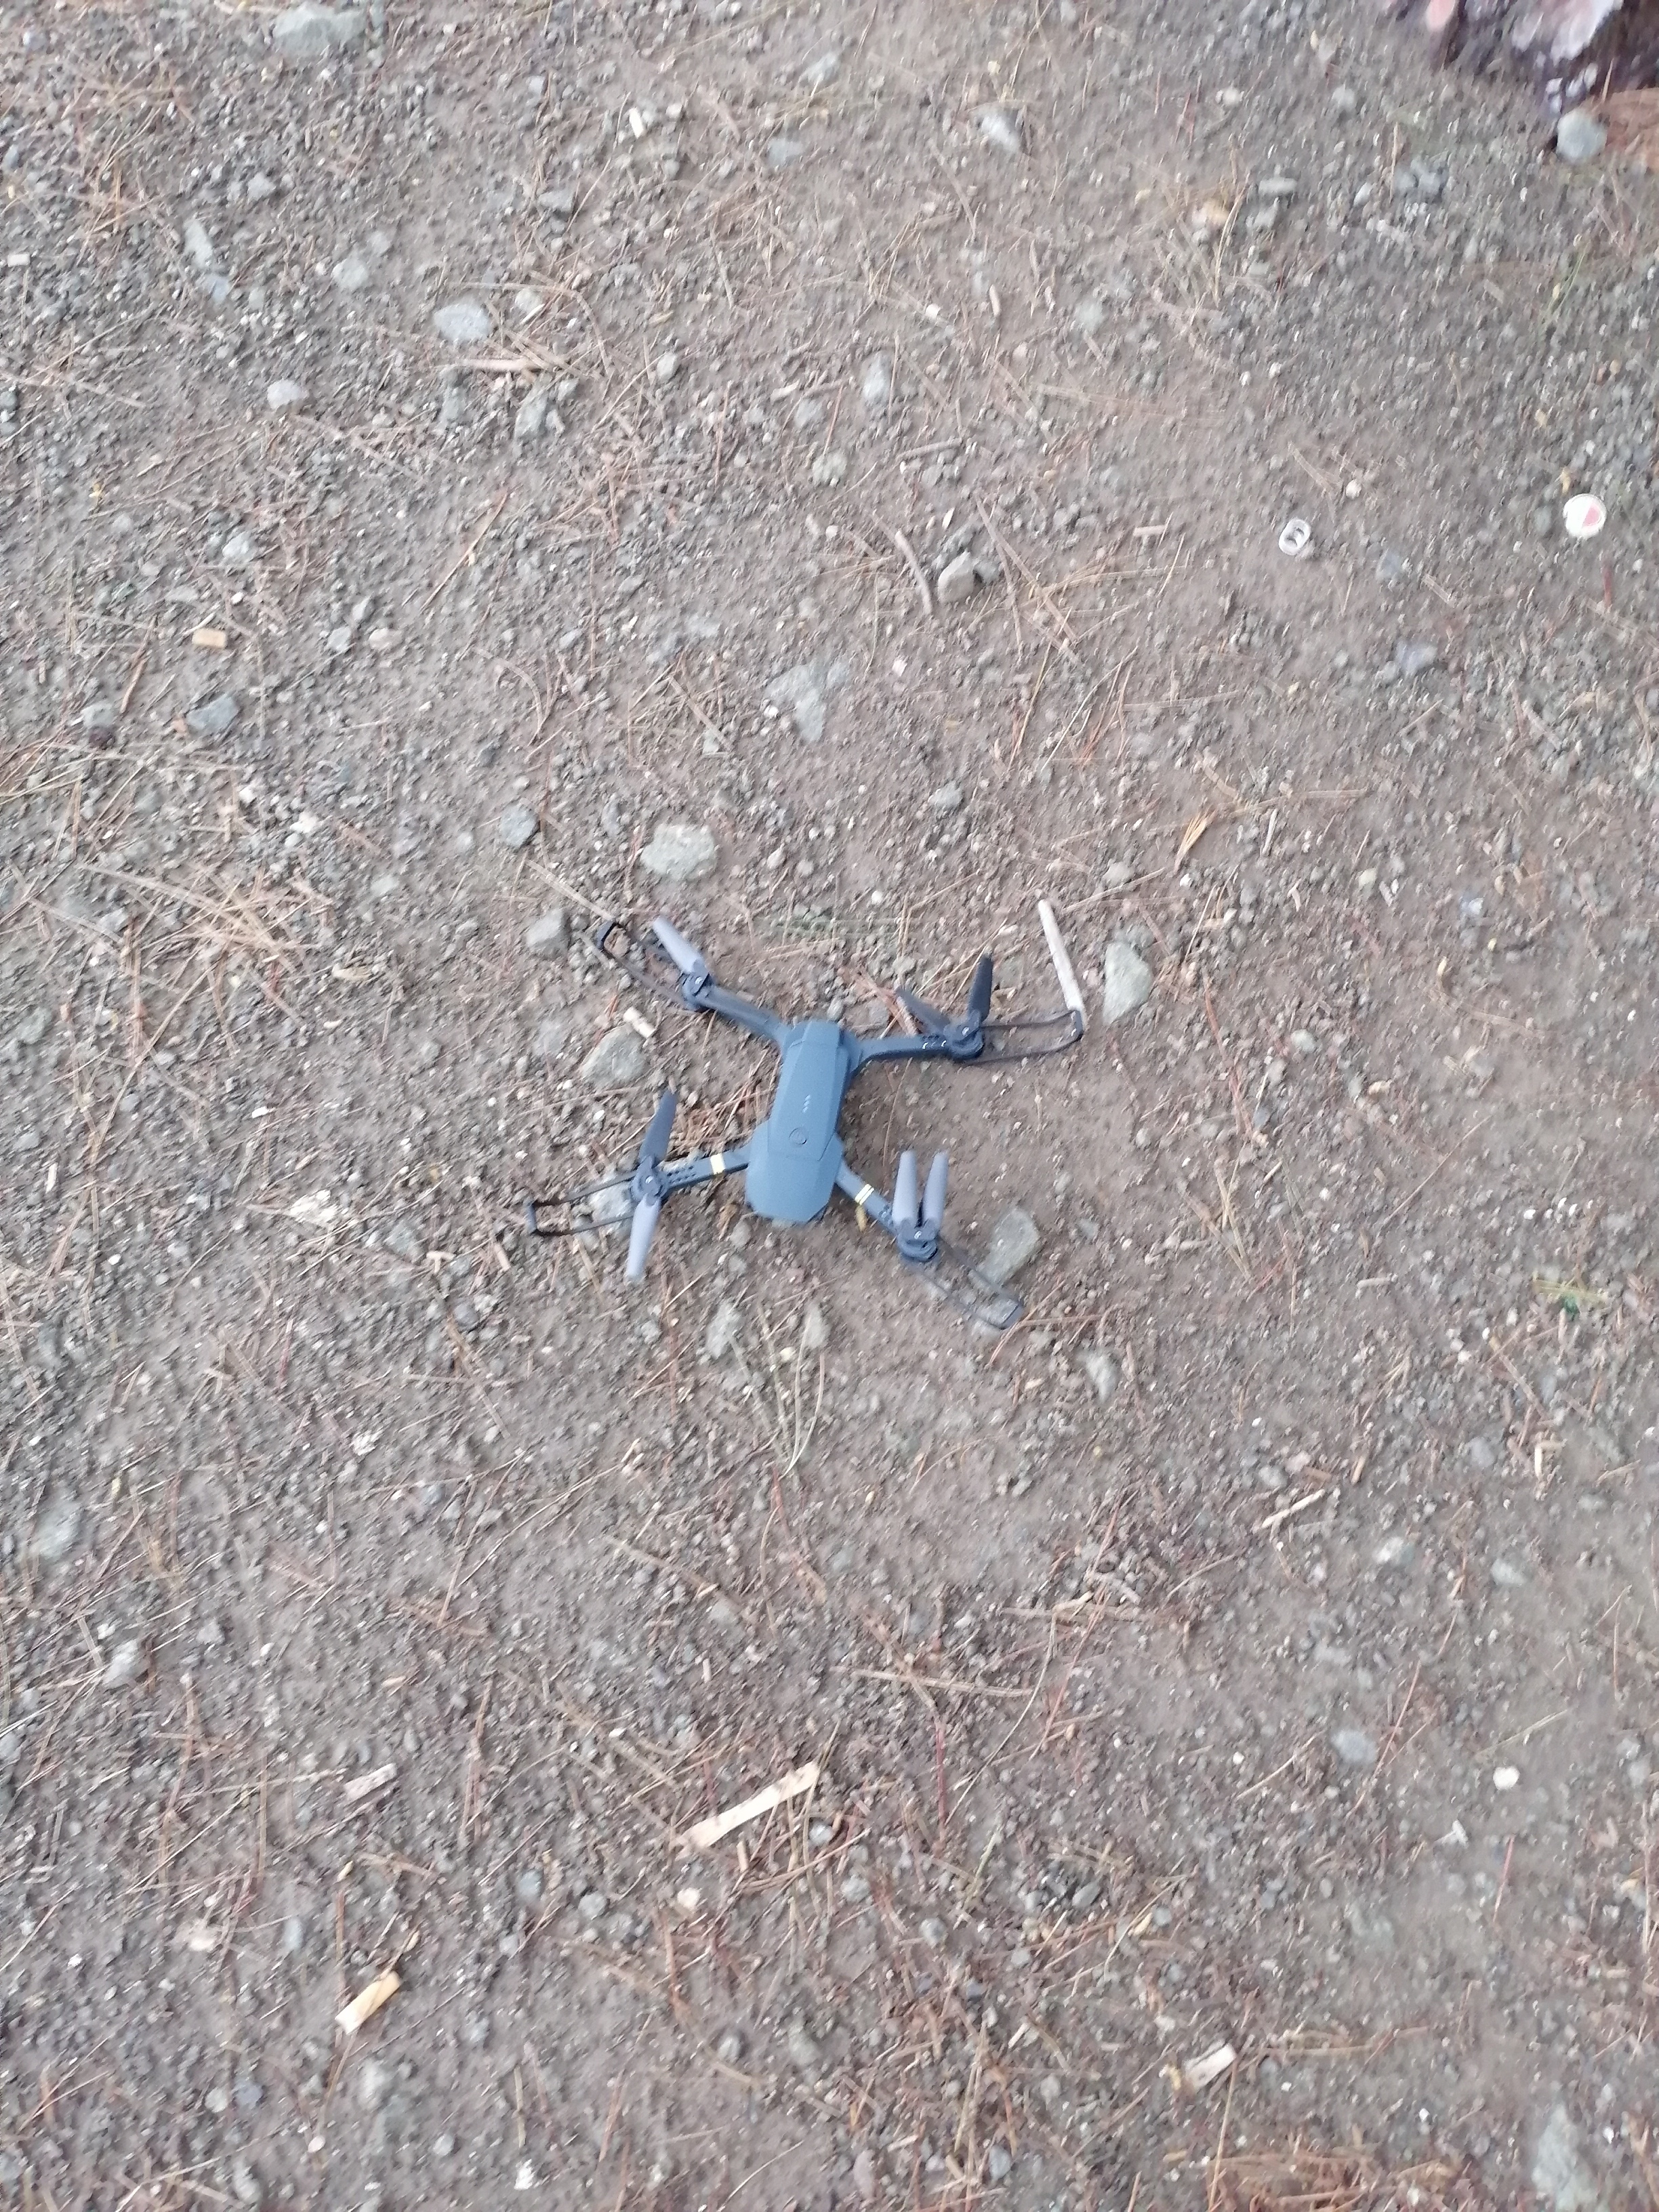drone: (591, 892, 1037, 1329)
